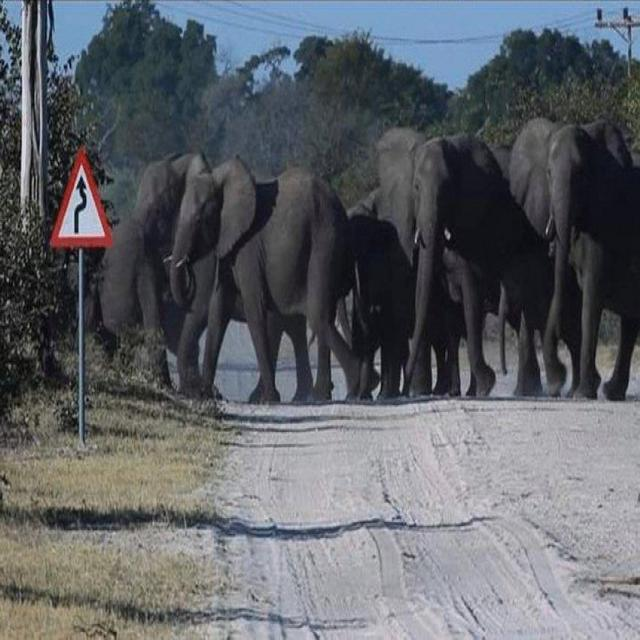Elephant: (173, 161, 367, 412), (368, 105, 509, 417), (510, 103, 640, 410)
